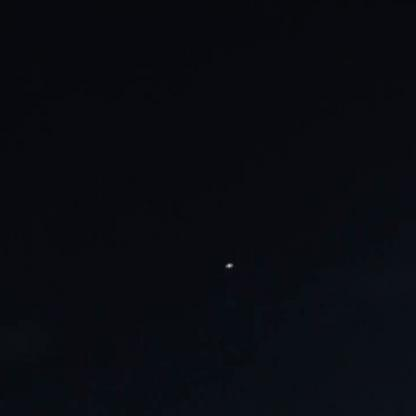ball: (221, 254, 238, 274)
